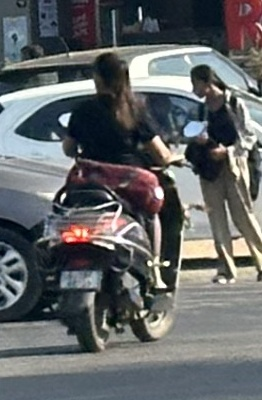BikeWithRider: (43, 44, 188, 370)
NoHelmet: (86, 49, 131, 95)
